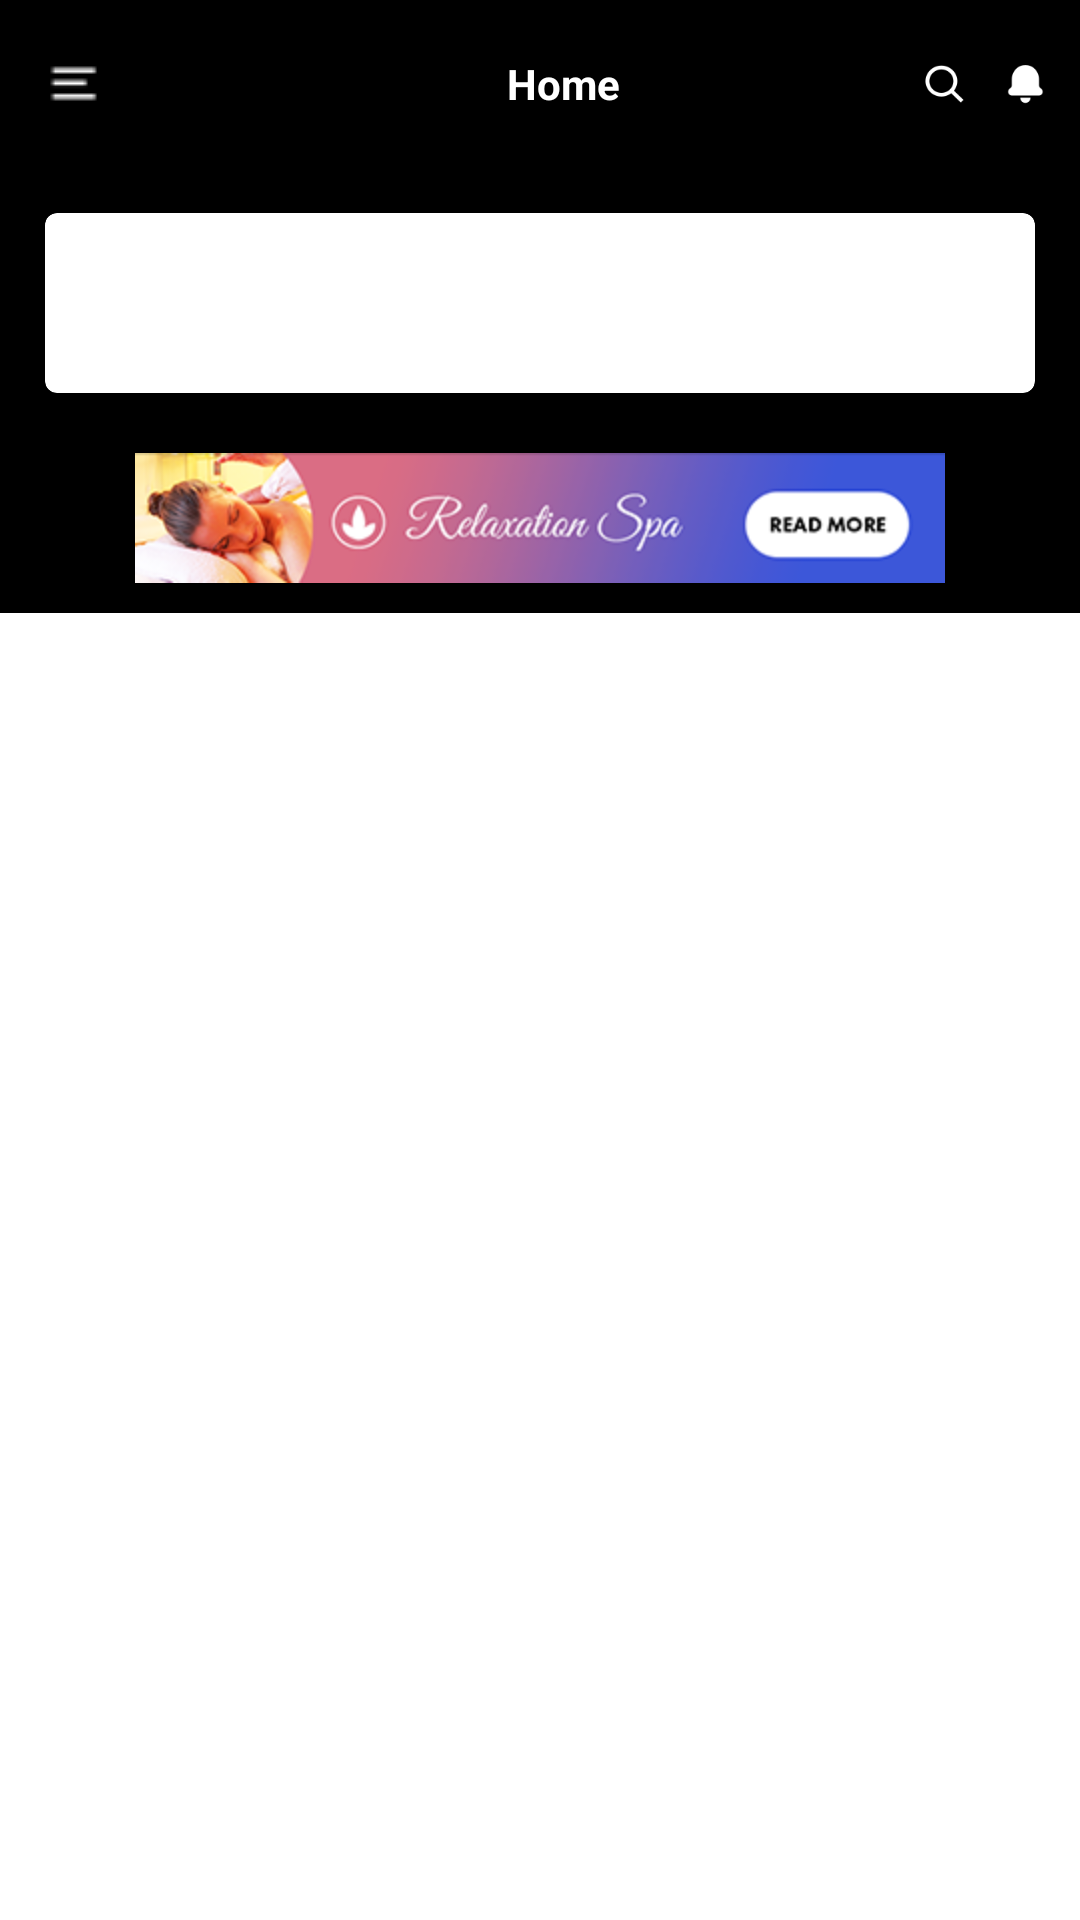

Where to tap for icons on this 1080w x 1920h app screen, as (x=x, y=y):
menu: (x=73, y=83)
notification: (x=1025, y=84)
search: (x=944, y=84)
